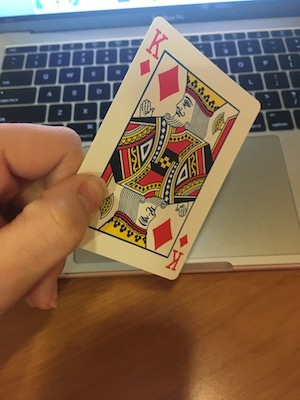KingOfDiamonds: (41, 15, 271, 283)
